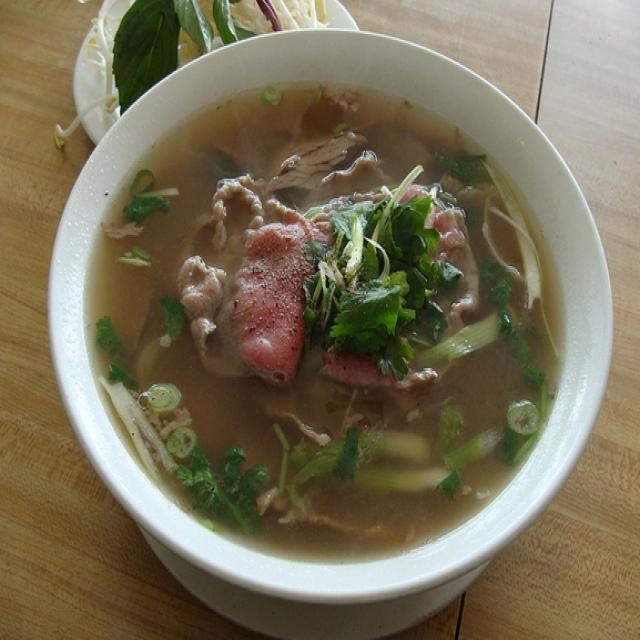面条主食: (55, 31, 599, 585)
